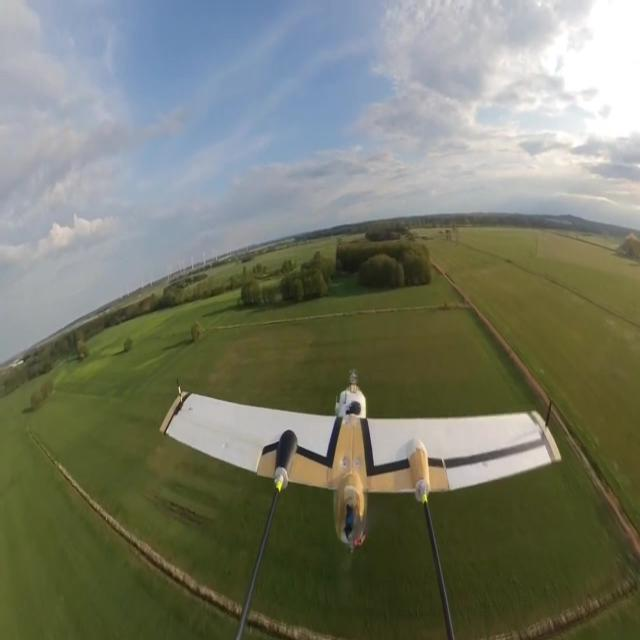iha: (161, 377, 564, 555)
